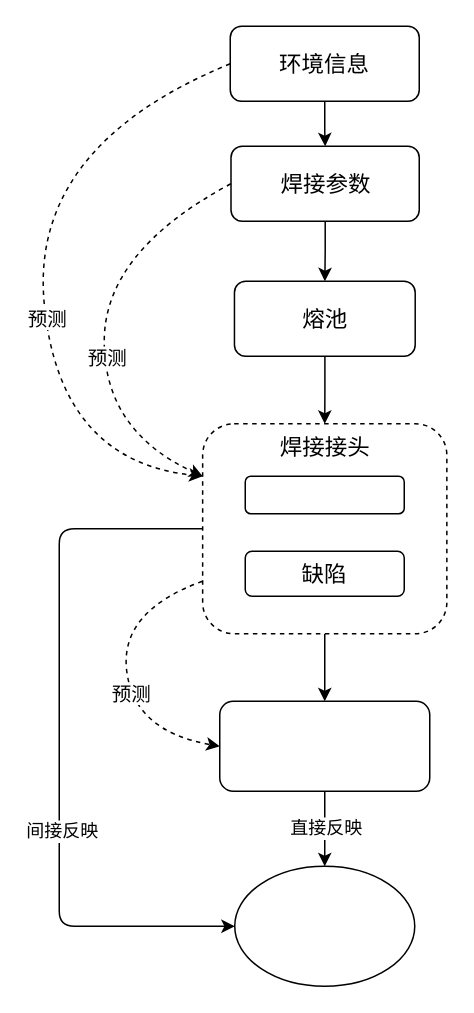
Image size: 474x1013. Some labels were removed from this diagram. Here are the shapes that lost their labels. From the top down, the centre of each, then its label:
(324,494): 焊缝尺寸
(324,745): 接头（力学）性能
(324,925): 焊接质量
